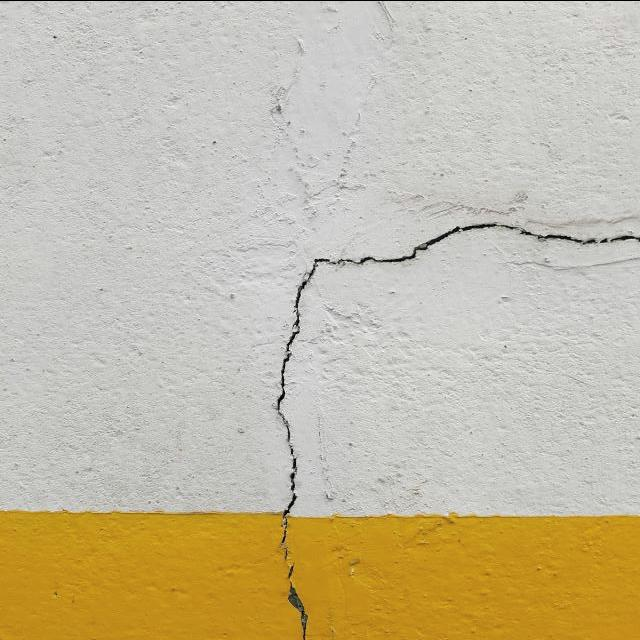SurfaceCrack: (244, 193, 638, 508), (247, 514, 359, 640)
